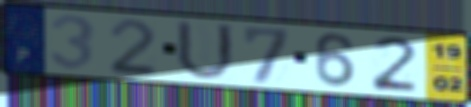2: (369, 34, 423, 95), (107, 16, 160, 77)
3: (47, 13, 101, 73)
6: (313, 32, 359, 88)
7: (240, 23, 293, 86)
U: (174, 18, 238, 83)
